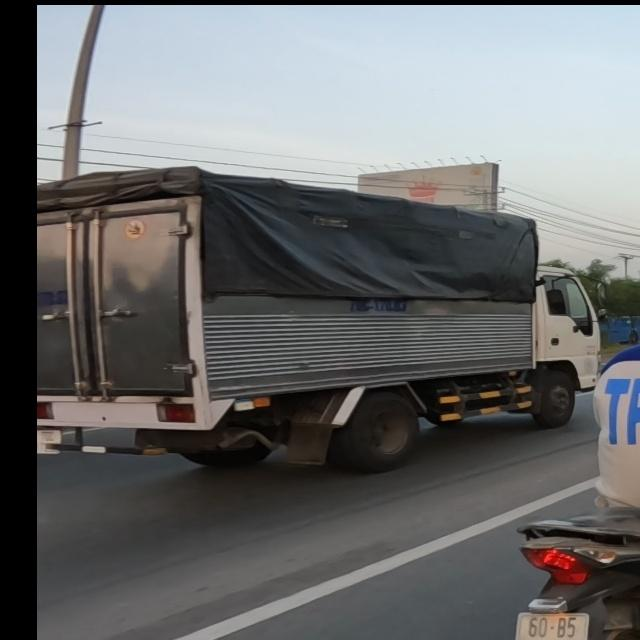license-plate: (513, 606, 592, 640)
